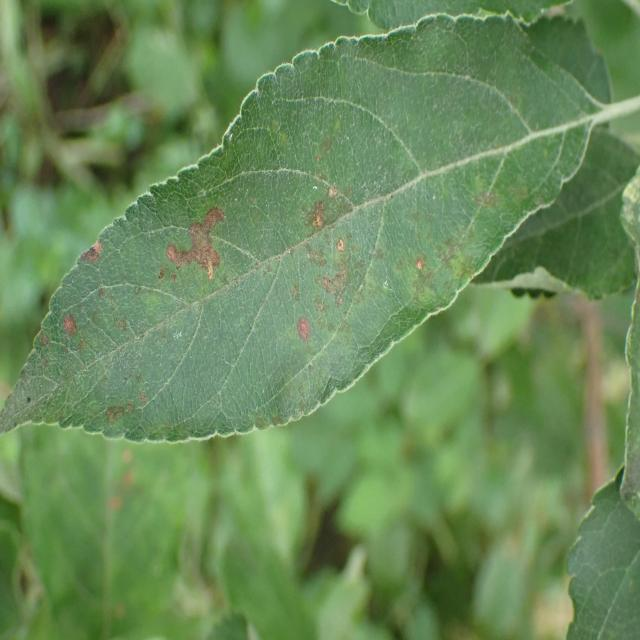scab: (4, 134, 591, 444)
